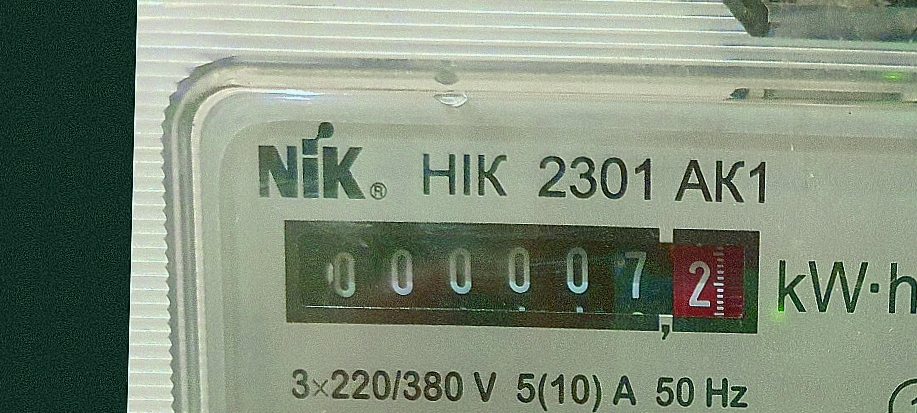0: (383, 244, 419, 297), (560, 243, 593, 297), (502, 241, 534, 295), (327, 247, 360, 299), (444, 243, 476, 296)
2: (683, 258, 715, 309)
7: (619, 246, 650, 301)
screen: (263, 199, 780, 353)
